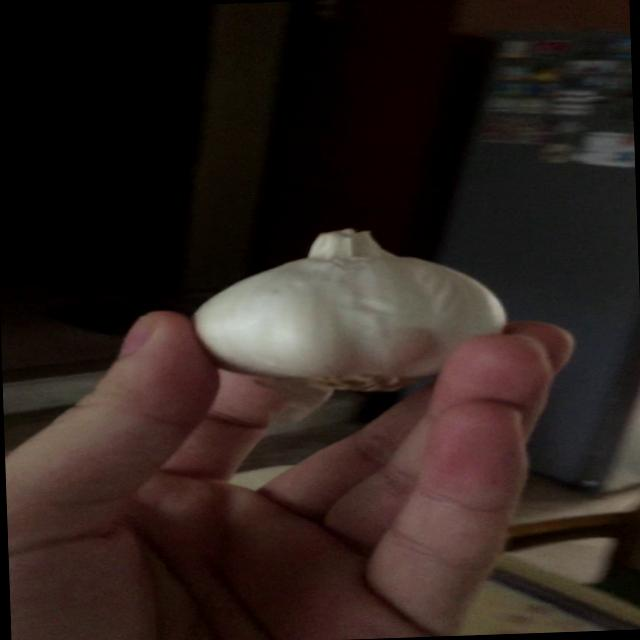bawang: (182, 218, 520, 410)
